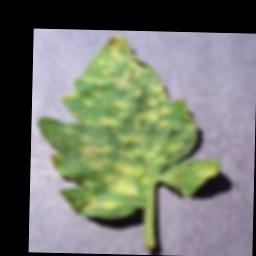Leaf_Mold: (36, 32, 223, 220)
